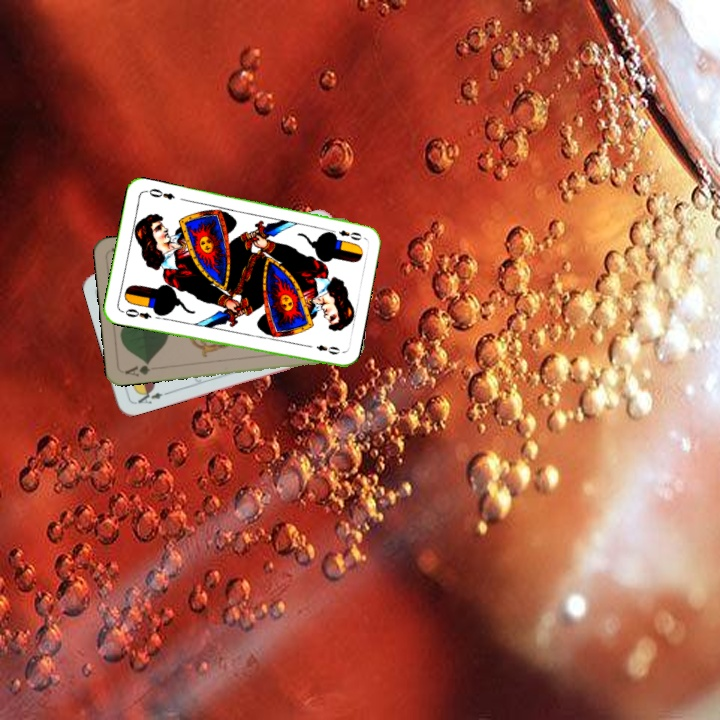EA: (131, 385, 170, 407)
EO: (326, 225, 365, 243), (117, 305, 154, 322)
GA: (121, 358, 152, 379)
